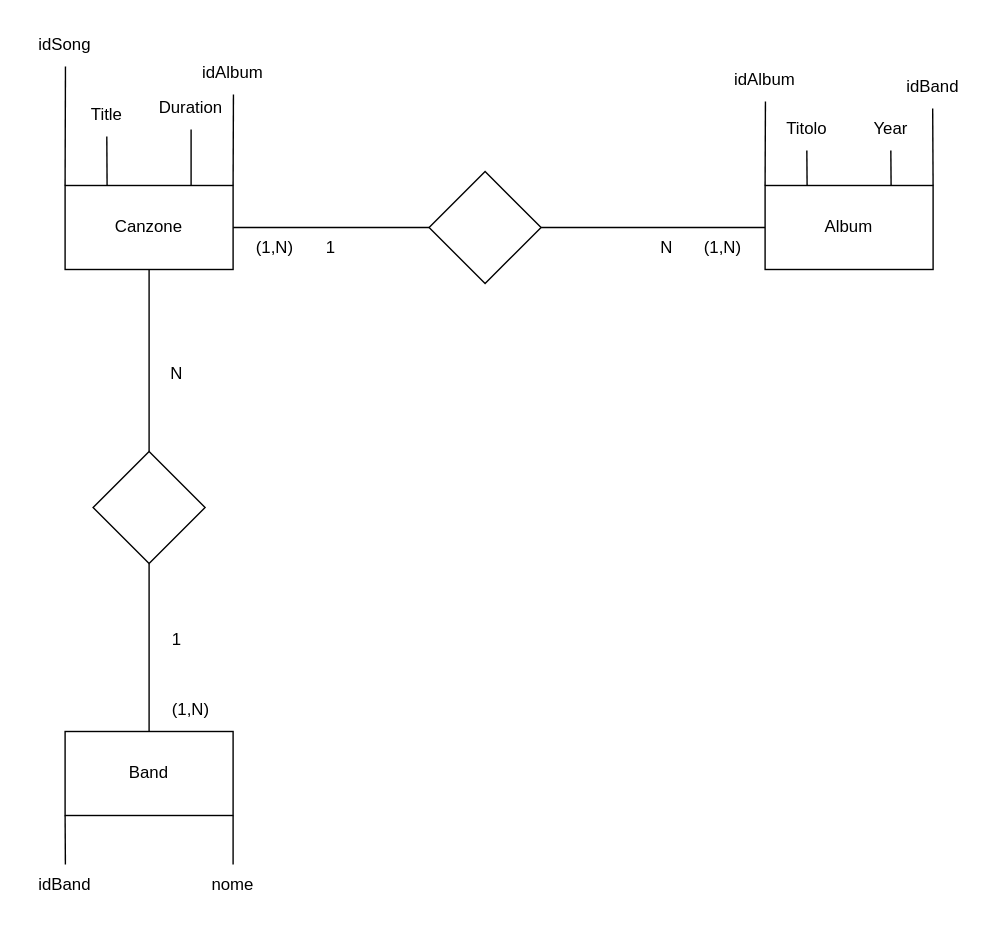
The diagram is 1000 pixels wide and 930 high, and some of its shapes have lost their labels. Here are the shapes that lost their labels. From the top down, the box of each, then its label:
(428, 170, 541, 284): Appartiene
(92, 450, 205, 564): Scrive
